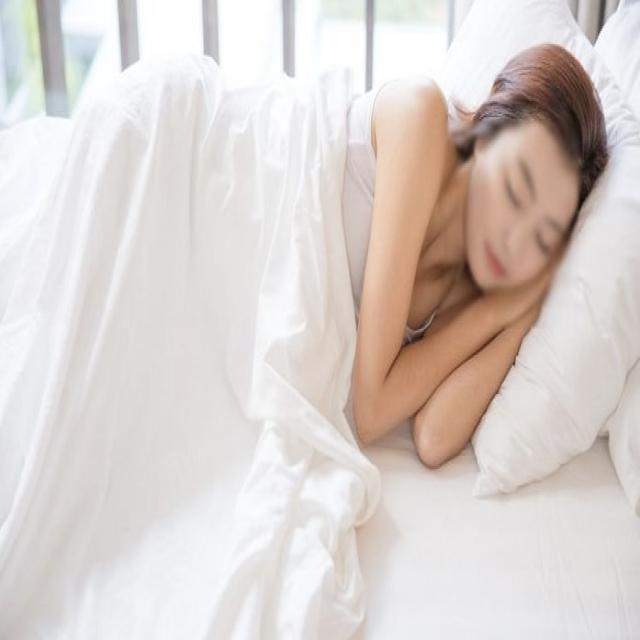sleeping-person: (3, 27, 616, 607)
